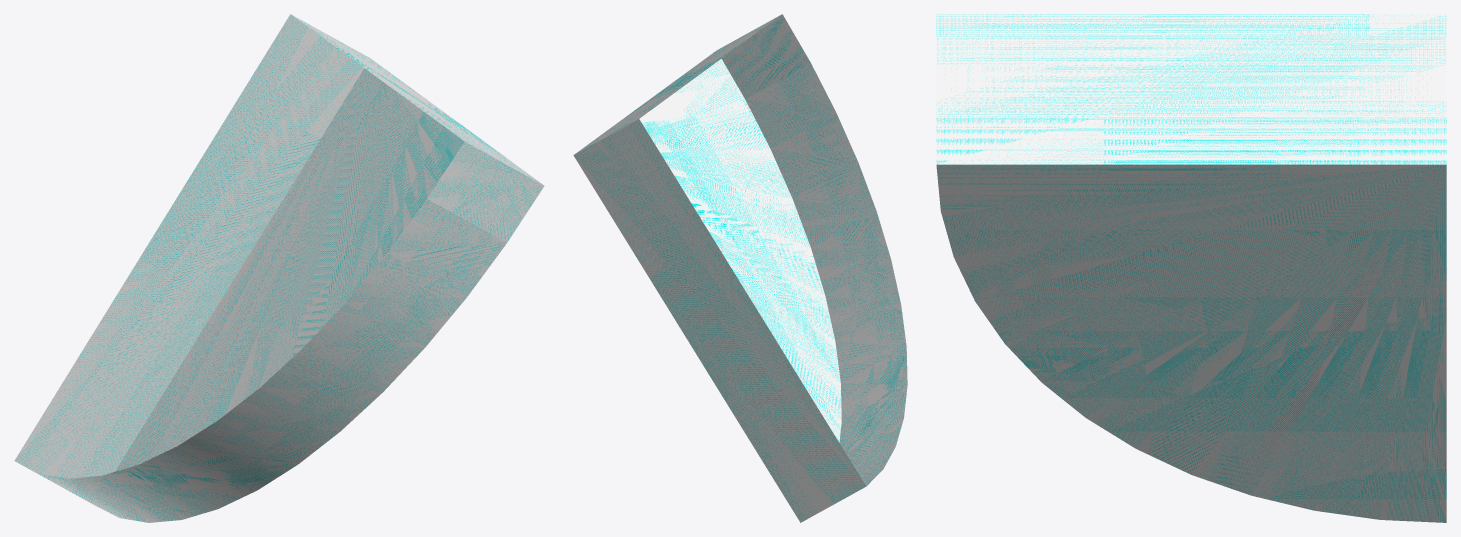
The model's file is original-17.obj.
3 views of the same model, side by side, from view 1: azimuth 30°, elevation 25°; view 2: azimuth 150°, elevation 25°; view 3: azimuth 270°, elevation 25° (orthographic). The views are drawn at different scales.
Parts seen in each view (by area): view 1: mesh2/mesh2-geometry/material_3/component_0#mesh2-geometry; view 2: mesh2/mesh2-geometry/material_3/component_0#mesh2-geometry; view 3: mesh2/mesh2-geometry/material_3/component_0#mesh2-geometry.
Part boxes in pixels (left/top/right/bottom): mesh2/mesh2-geometry/material_3/component_0#mesh2-geometry: left=14, top=14, right=544, bottom=522; mesh2/mesh2-geometry/material_3/component_0#mesh2-geometry: left=573, top=14, right=907, bottom=522; mesh2/mesh2-geometry/material_3/component_0#mesh2-geometry: left=936, top=14, right=1446, bottom=522.
Bounding box in the file's own units: 0.0788 × 0.0938 × 0.0668.
